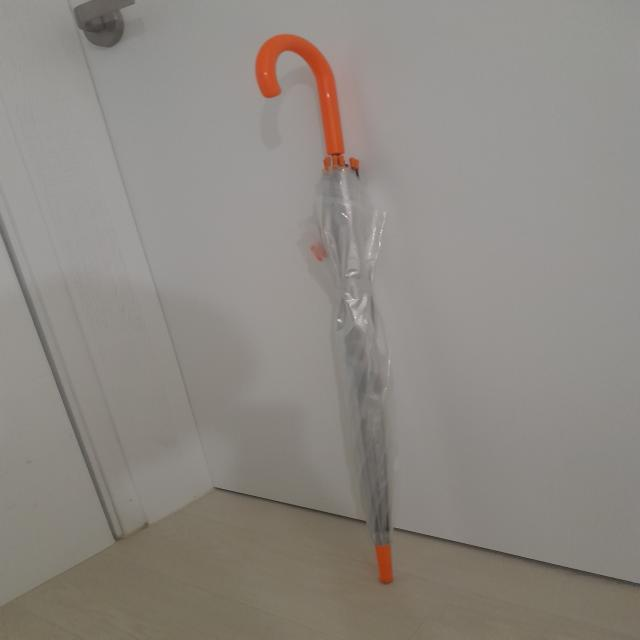umbrella: (257, 33, 403, 585)
